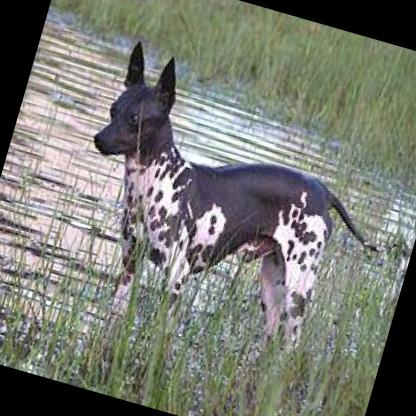Mexican_hairless: (50, 36, 414, 374)
